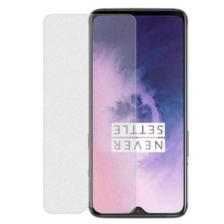phone: (85, 5, 190, 223)
